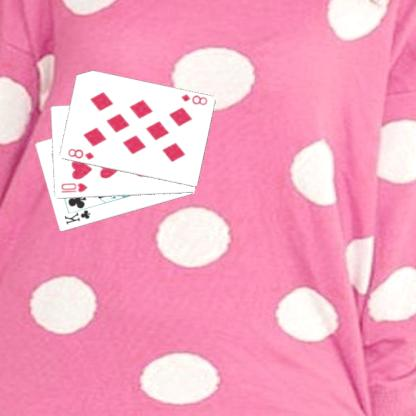10H: (58, 181, 89, 194)
8D: (178, 91, 209, 107), (65, 146, 96, 161)
KC: (62, 204, 92, 226)
